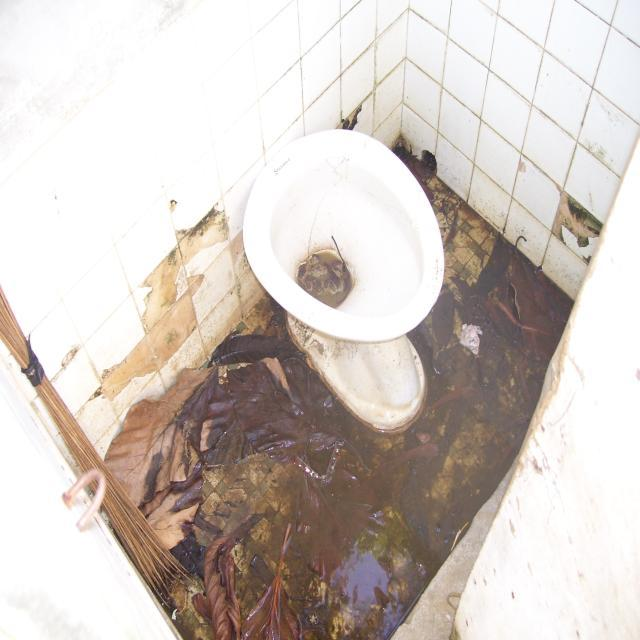dirty_floor: (57, 127, 578, 637)
